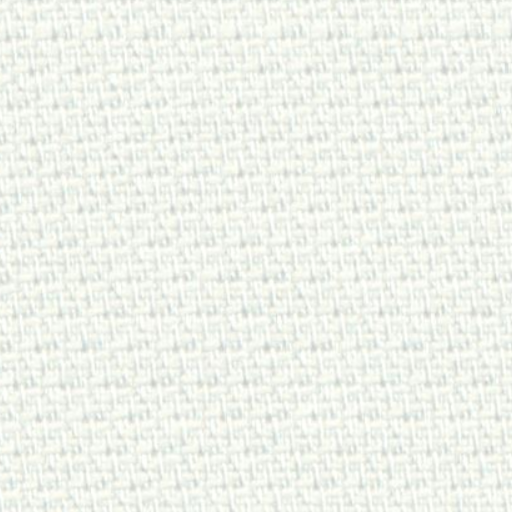TuoSha: (12, 2, 496, 71)
